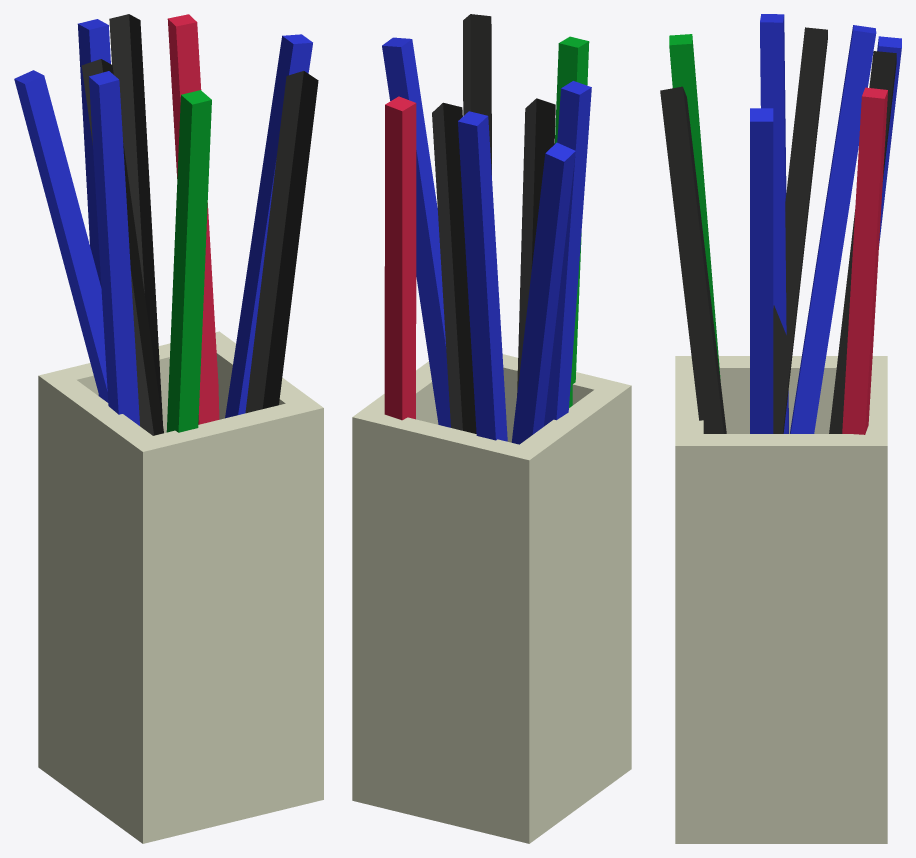
File: PenBox_000.glb
3 renders of one model, left to right at view 1: azimuth 30°, elevation 25°; view 2: azimuth 150°, elevation 25°; view 3: azimuth 270°, elevation 25°, orthographic. The views are drawn at different scales.
Visible parts, largest first — view 1: PenBox, Pen, Pen.006, Pen.002, Pen.007, Pen.005, Pen.003, Pen.001, Pen.008, Pen.004; view 2: PenBox, Pen.001, Pen.004, Pen.007, Pen.005, Pen.003, Pen.002, Pen.008, Pen, Pen.006; view 3: PenBox, Pen.007, Pen, Pen.001, Pen.008, Pen.003, Pen.002, Pen.006, Pen.005, Pen.004.
Boxes of the visible parts, left/top/right/bottom form: PenBox: left=38, top=331, right=323, bottom=843; Pen: left=245, top=71, right=318, bottom=413; Pen.006: left=166, top=90, right=211, bottom=432; Pen.002: left=89, top=71, right=139, bottom=425; Pen.007: left=14, top=70, right=108, bottom=402; Pen.005: left=109, top=14, right=162, bottom=423; Pen.003: left=225, top=34, right=312, bottom=418; Pen.001: left=167, top=14, right=219, bottom=424; Pen.008: left=81, top=59, right=163, bottom=435; Pen.004: left=77, top=19, right=110, bottom=395; PenBox: left=352, top=354, right=631, bottom=843; Pen.001: left=384, top=96, right=416, bottom=420; Pen.004: left=458, top=111, right=507, bottom=441; Pen.007: left=511, top=142, right=575, bottom=444; Pen.005: left=432, top=102, right=476, bottom=433; Pen.003: left=382, top=37, right=450, bottom=427; Pen.002: left=544, top=81, right=591, bottom=426; Pen.008: left=517, top=98, right=555, bottom=395; Pen: left=463, top=14, right=491, bottom=174; Pen.006: left=554, top=36, right=589, bottom=407; PenBox: left=675, top=356, right=887, bottom=843; Pen.007: left=790, top=25, right=876, bottom=433; Pen: left=660, top=86, right=726, bottom=433; Pen.001: left=842, top=87, right=887, bottom=434; Pen.008: left=773, top=27, right=827, bottom=433; Pen.003: left=750, top=108, right=773, bottom=433; Pen.002: left=760, top=14, right=788, bottom=433; Pen.006: left=669, top=34, right=720, bottom=379; Pen.005: left=829, top=51, right=896, bottom=433; Pen.004: left=877, top=36, right=901, bottom=245.
Size of the model in its own units: 0.0736 by 0.2168 by 0.0639.
